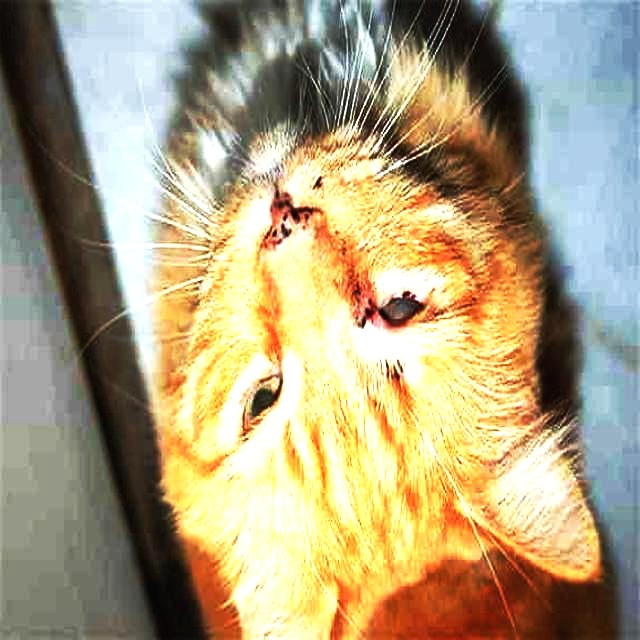eye_infection: (367, 287, 421, 328)
